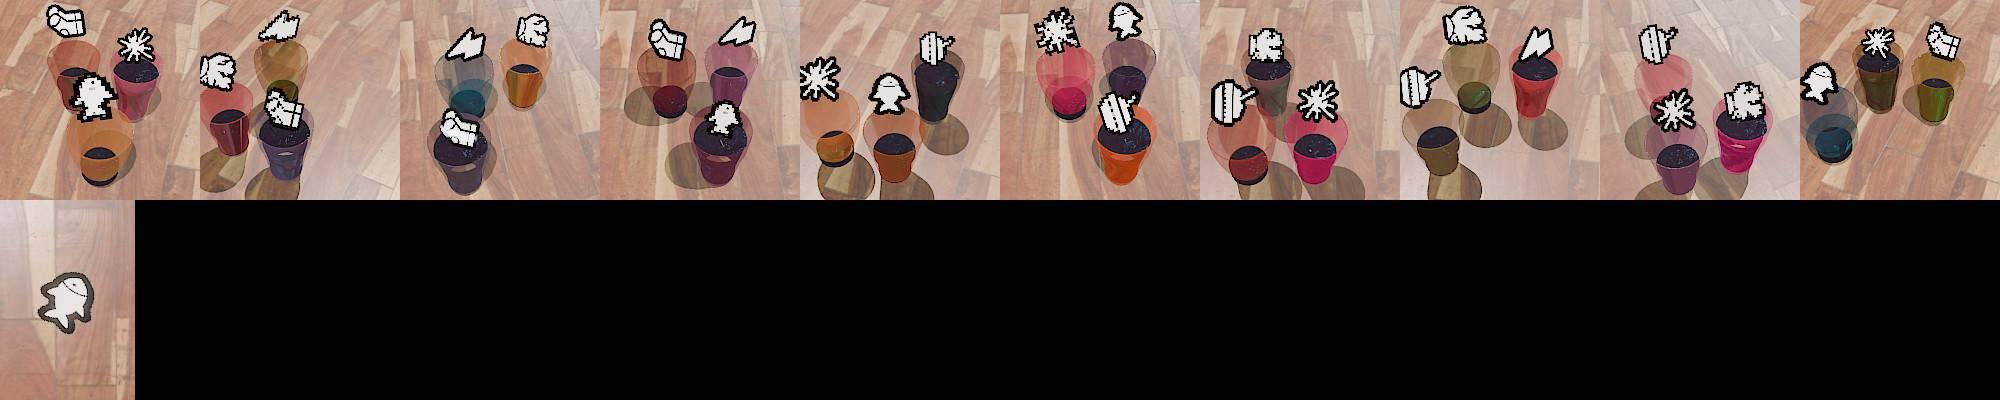icon: (36, 270, 94, 334), (68, 71, 119, 121), (1033, 6, 1080, 56), (1651, 88, 1698, 136), (797, 55, 843, 102), (1210, 78, 1253, 129), (1296, 78, 1342, 122), (866, 70, 911, 116), (1399, 65, 1444, 110), (1721, 80, 1767, 124), (263, 88, 306, 134), (1441, 5, 1489, 46), (1638, 22, 1680, 66), (648, 17, 687, 62), (1096, 89, 1135, 134), (1800, 61, 1839, 106), (437, 108, 482, 148), (443, 25, 487, 62), (199, 51, 239, 92), (1247, 25, 1286, 65), (1107, 1, 1145, 41), (116, 27, 156, 65), (258, 9, 301, 43), (917, 29, 957, 66), (1518, 25, 1556, 62), (1926, 22, 1962, 61), (46, 4, 87, 38), (514, 11, 550, 50), (716, 15, 758, 47), (704, 99, 742, 134), (1858, 27, 1897, 61)
